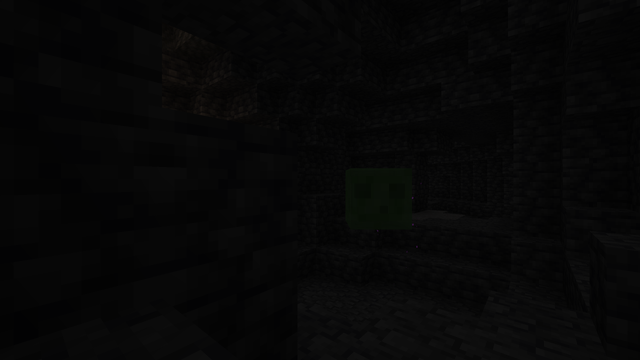slimes: (335, 165, 413, 232)
